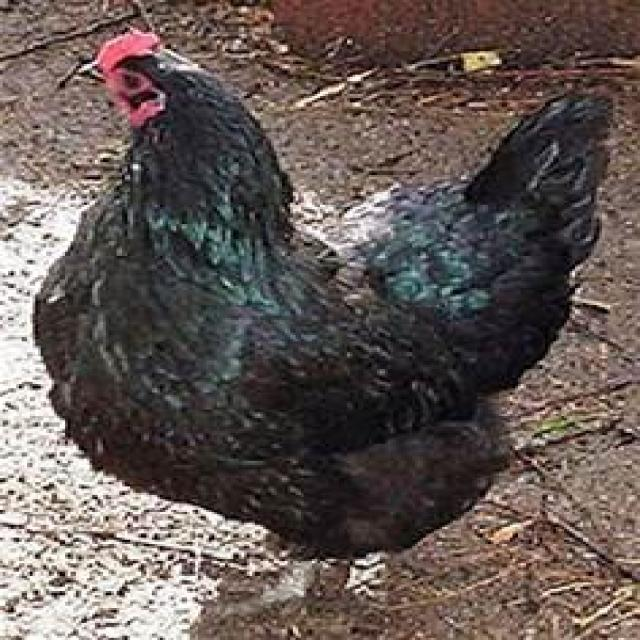animal: (32, 27, 622, 601)
